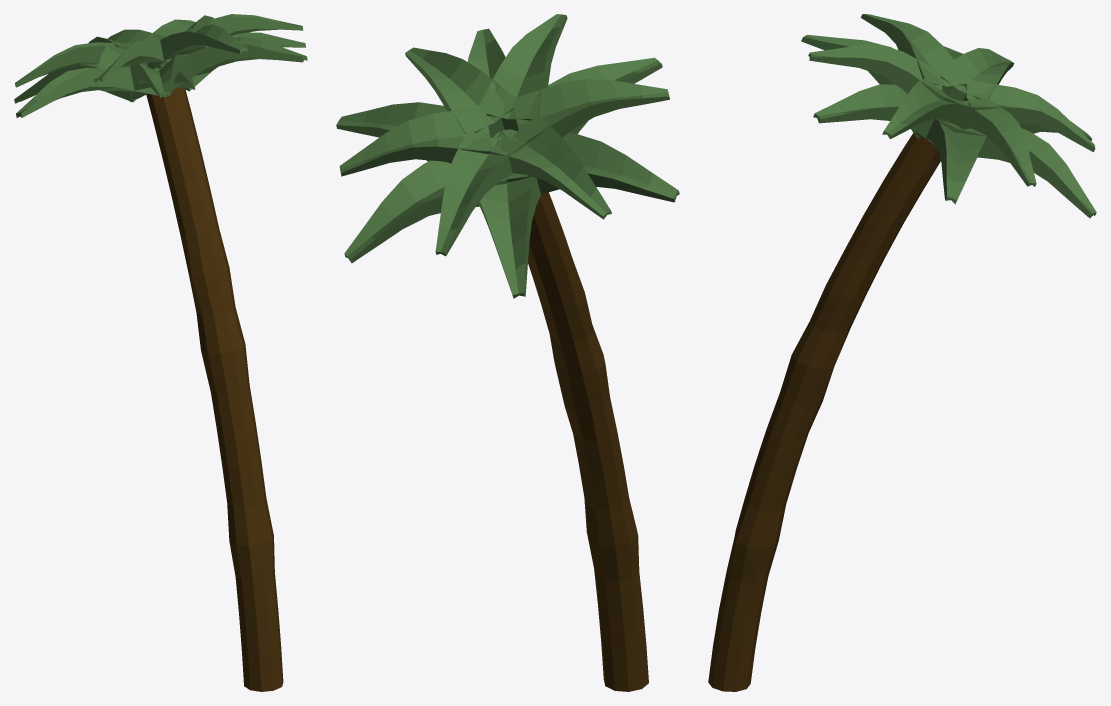
File: SharkMeat.glb
3 renders of one model, left to right at view 1: azimuth 30°, elevation 25°; view 2: azimuth 150°, elevation 25°; view 3: azimuth 270°, elevation 25°, orthographic. The views are drawn at different scales.
Parts seen in each view (by area): view 1: CoconutTree; view 2: CoconutTree; view 3: CoconutTree.
Boxes of the visible parts, x1=… form: CoconutTree: x1=14, y1=14, x2=307, y2=691; CoconutTree: x1=336, y1=14, x2=679, y2=691; CoconutTree: x1=708, y1=14, x2=1096, y2=691.
Size of the model in its own units: 4.38 by 8.76 by 4.82.
